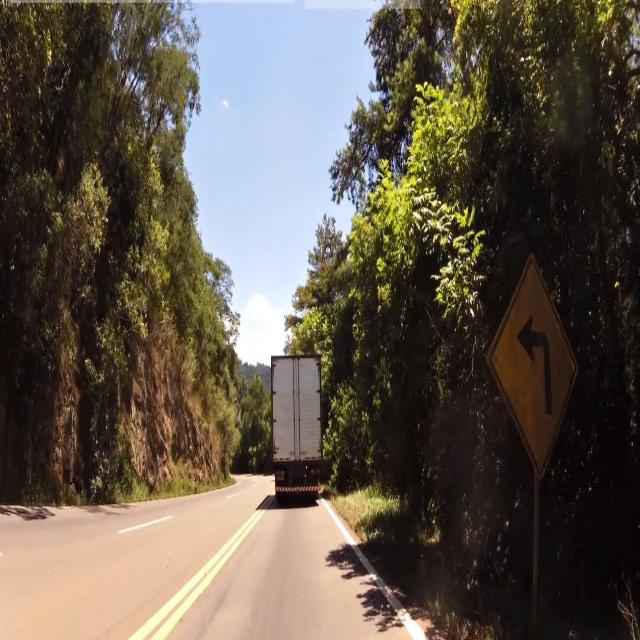A-1a: (484, 252, 590, 477)
